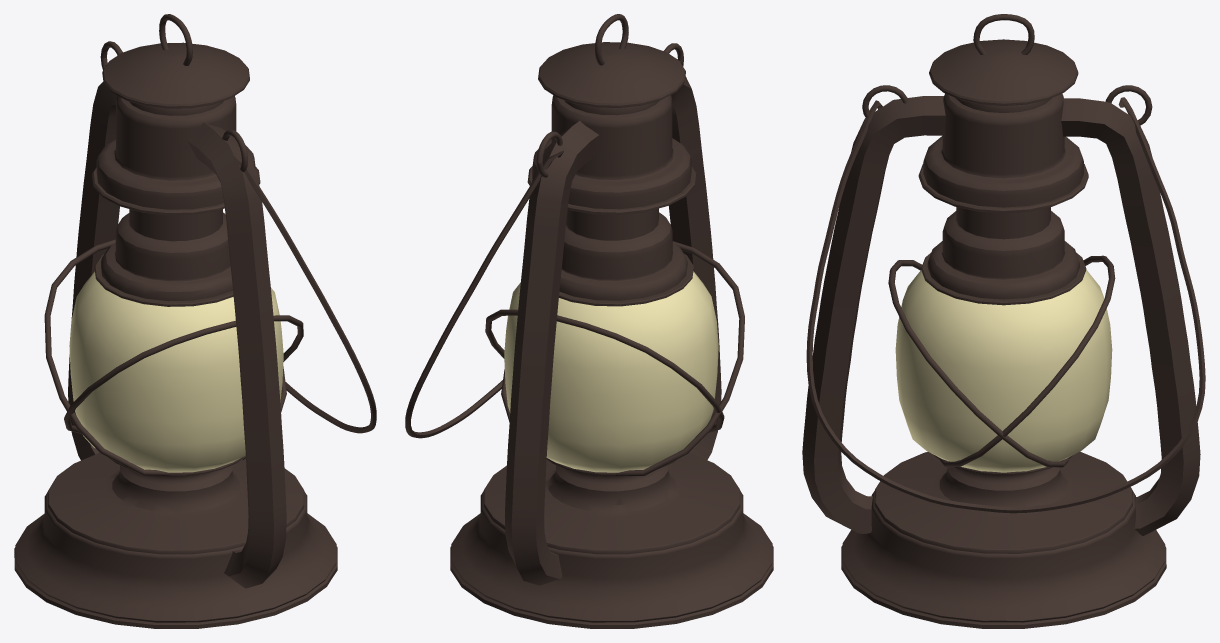
Rendered from lanternProp.fbx.
3 views of the same model, side by side, from view 1: azimuth 30°, elevation 25°; view 2: azimuth 150°, elevation 25°; view 3: azimuth 270°, elevation 25° (orthographic).
Visible parts, largest first — view 1: lanternBase1, lanternGlass; view 2: lanternBase1, lanternGlass; view 3: lanternBase1, lanternGlass.
Boxes of the visible parts, bbox=[...] form: lanternBase1: bbox=[14, 14, 376, 628]; lanternGlass: bbox=[69, 271, 283, 472]; lanternBase1: bbox=[405, 14, 773, 628]; lanternGlass: bbox=[504, 271, 718, 472]; lanternBase1: bbox=[802, 14, 1205, 628]; lanternGlass: bbox=[895, 270, 1112, 472].
Size of the model in its own units: 28.11 by 51.79 by 34.69.
